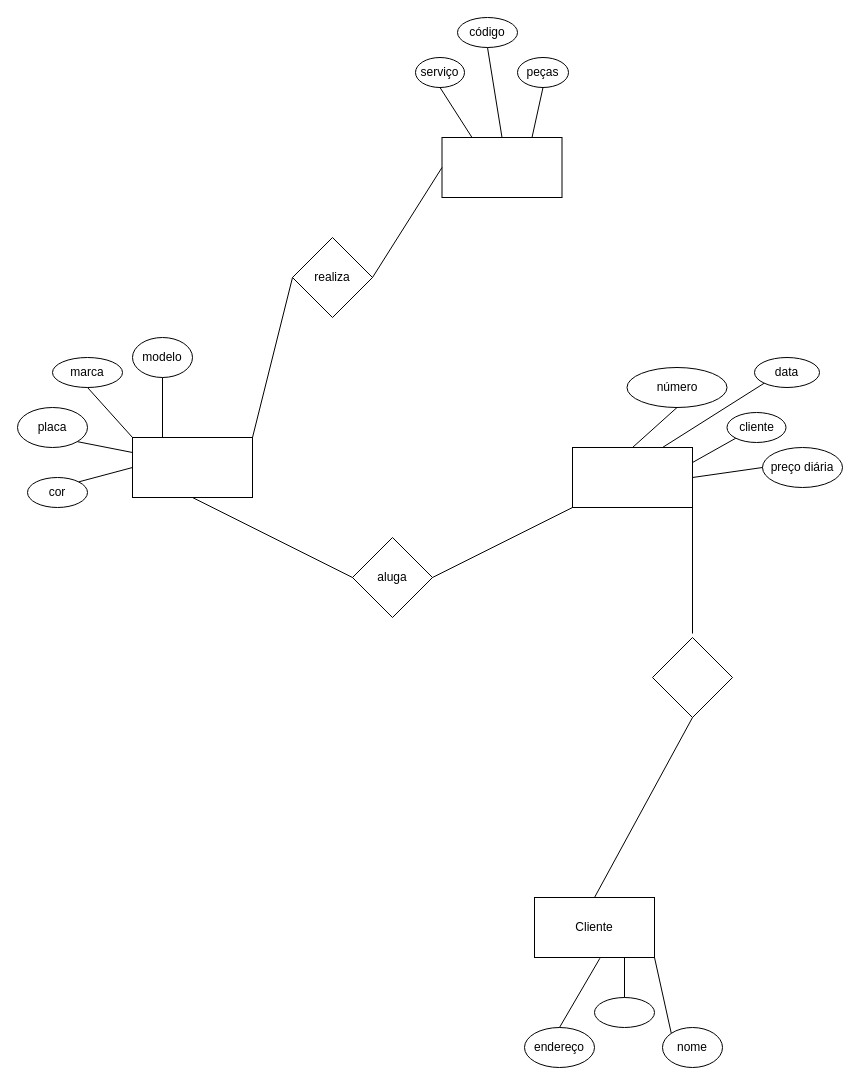
Image size: 860x1085. Some labels were removed from this diagram. The centre of each missing label's shape, as x and y in pixels:
"Contrato" belongs at point (632, 477).
"cpf" belongs at point (624, 1012).
"Manutenção" belongs at point (501, 167).
"solicita" belongs at point (692, 677).
"Veiculo" belongs at point (192, 467).
